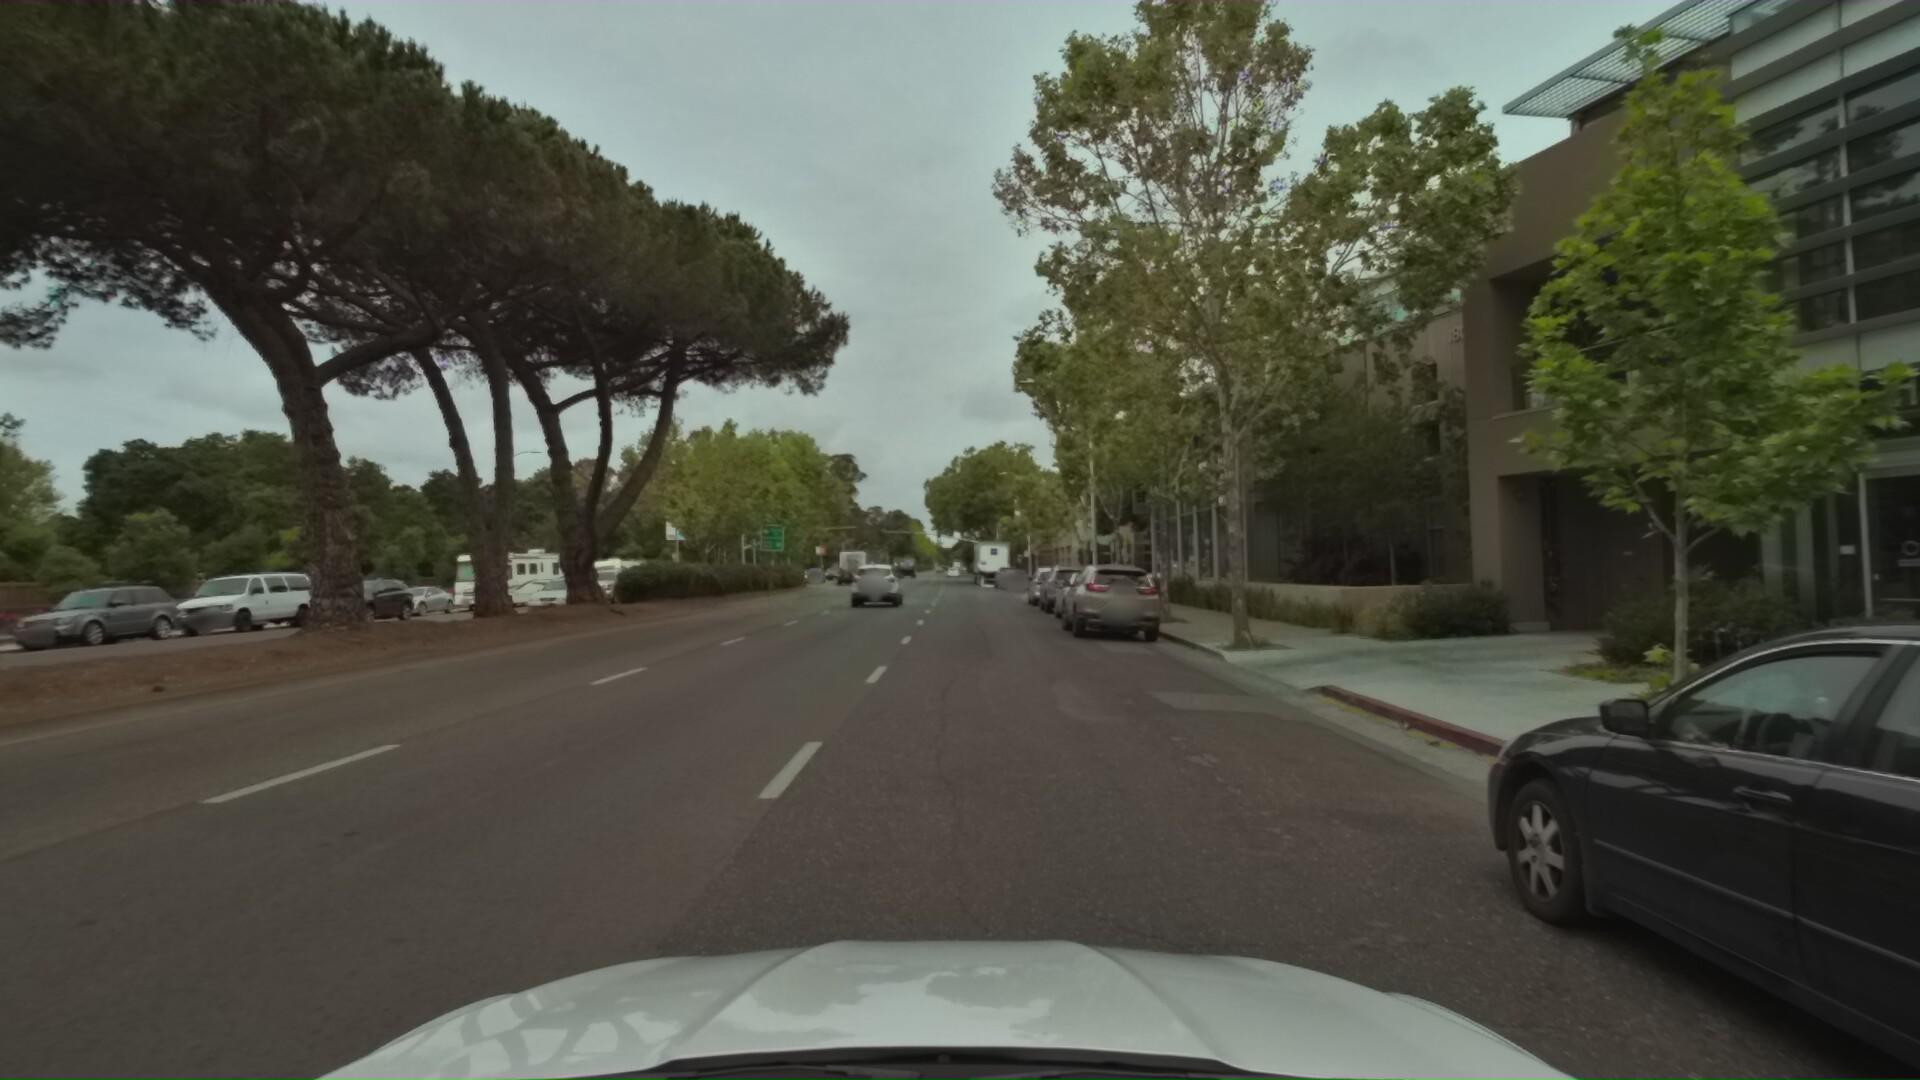car: (1448, 592, 1920, 1080), (0, 582, 181, 657), (150, 568, 320, 640), (1056, 556, 1168, 644), (281, 578, 404, 630), (1048, 564, 1134, 625), (361, 578, 462, 624), (506, 575, 601, 622), (1035, 559, 1102, 615), (840, 559, 903, 608), (560, 568, 634, 608), (1023, 563, 1080, 609), (1000, 564, 1029, 589), (993, 562, 1021, 587)
other_vehicle: (435, 538, 568, 615), (582, 553, 649, 597)
